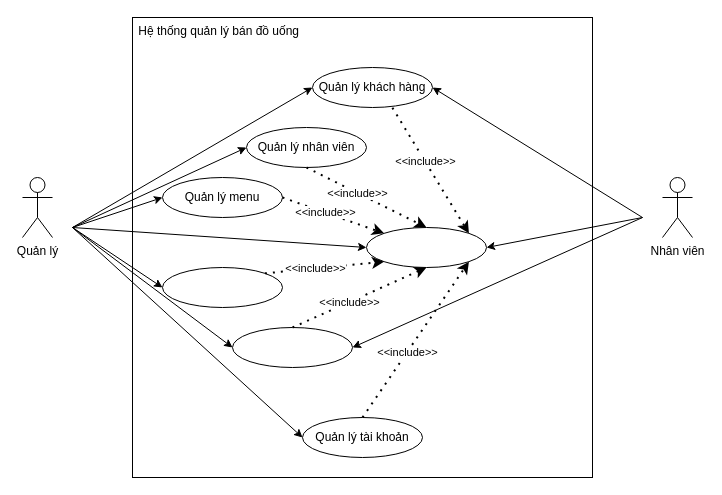
Image size: 722x495. Some labels were removed from this diagram. Each missing label, with the box of its shape:
Báo cáo thống kê: (232, 326, 352, 368)
Quản lý hóa đơn: (162, 266, 282, 308)
Đăng nhập: (366, 226, 486, 268)
